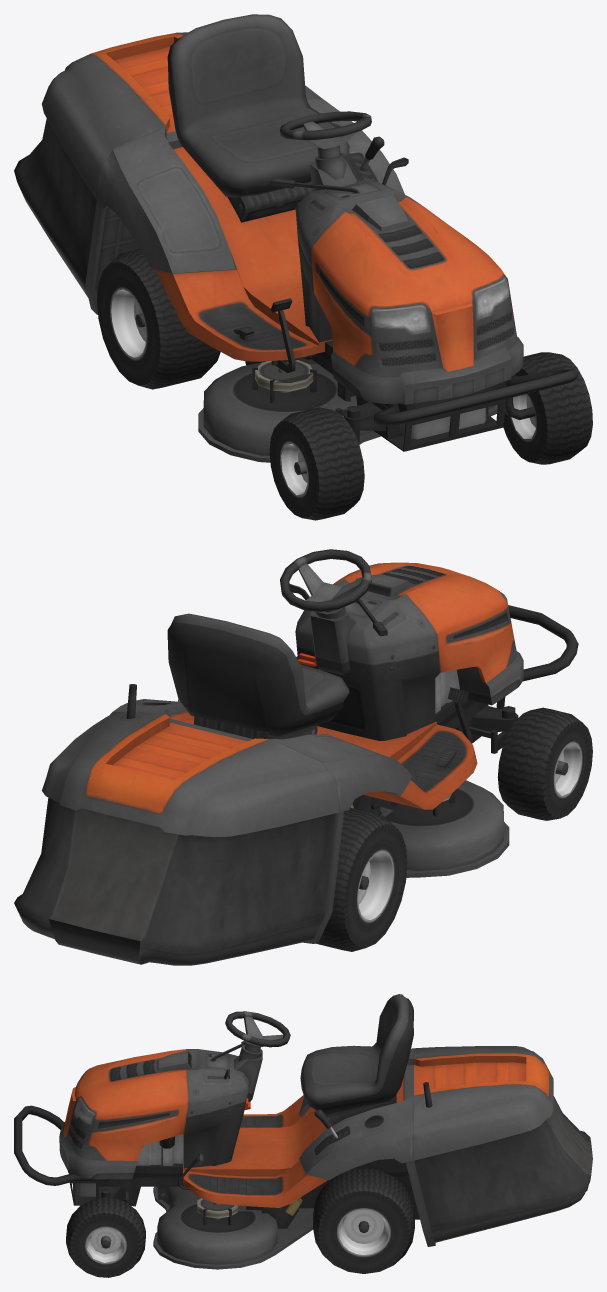
File: LawnTractor01_Packed_InParts.glb
3 renders of one model, top to bottom at view 1: azimuth 30°, elevation 25°; view 2: azimuth 150°, elevation 25°; view 3: azimuth 270°, elevation 25°, orthographic. The views are drawn at different scales.
Visible parts, largest first — view 1: LawnTractor01, Bag, WheelBR, WheelFR, WheelFL, SteeringWheel; view 2: LawnTractor01, Bag, WheelBR, WheelFR, SteeringWheel; view 3: LawnTractor01, Bag, WheelBL, WheelFL, SteeringWheel.
Part boxes in pixels (x1=…): LawnTractor01: x1=85, y1=14, x2=578, y2=462; Bag: x1=14, y1=32, x2=321, y2=297; WheelBR: x1=97, y1=248, x2=220, y2=389; WheelFR: x1=269, y1=407, x2=364, y2=520; WheelFL: x1=503, y1=352, x2=592, y2=464; SteeringWheel: x1=280, y1=111, x2=371, y2=159; LawnTractor01: x1=106, y1=562, x2=578, y2=943; Bag: x1=14, y1=684, x2=338, y2=965; WheelBR: x1=316, y1=807, x2=407, y2=951; WheelFR: x1=497, y1=707, x2=592, y2=820; SteeringWheel: x1=280, y1=549, x2=371, y2=612; LawnTractor01: x1=14, y1=994, x2=435, y2=1269; Bag: x1=414, y1=1046, x2=592, y2=1242; WheelBL: x1=313, y1=1168, x2=414, y2=1273; WheelFL: x1=66, y1=1197, x2=145, y2=1277; SteeringWheel: x1=225, y1=1011, x2=290, y2=1052.
Bounding box in the file's own units: 1.15 × 1.2 × 2.77.
1 material, 1 textured.
